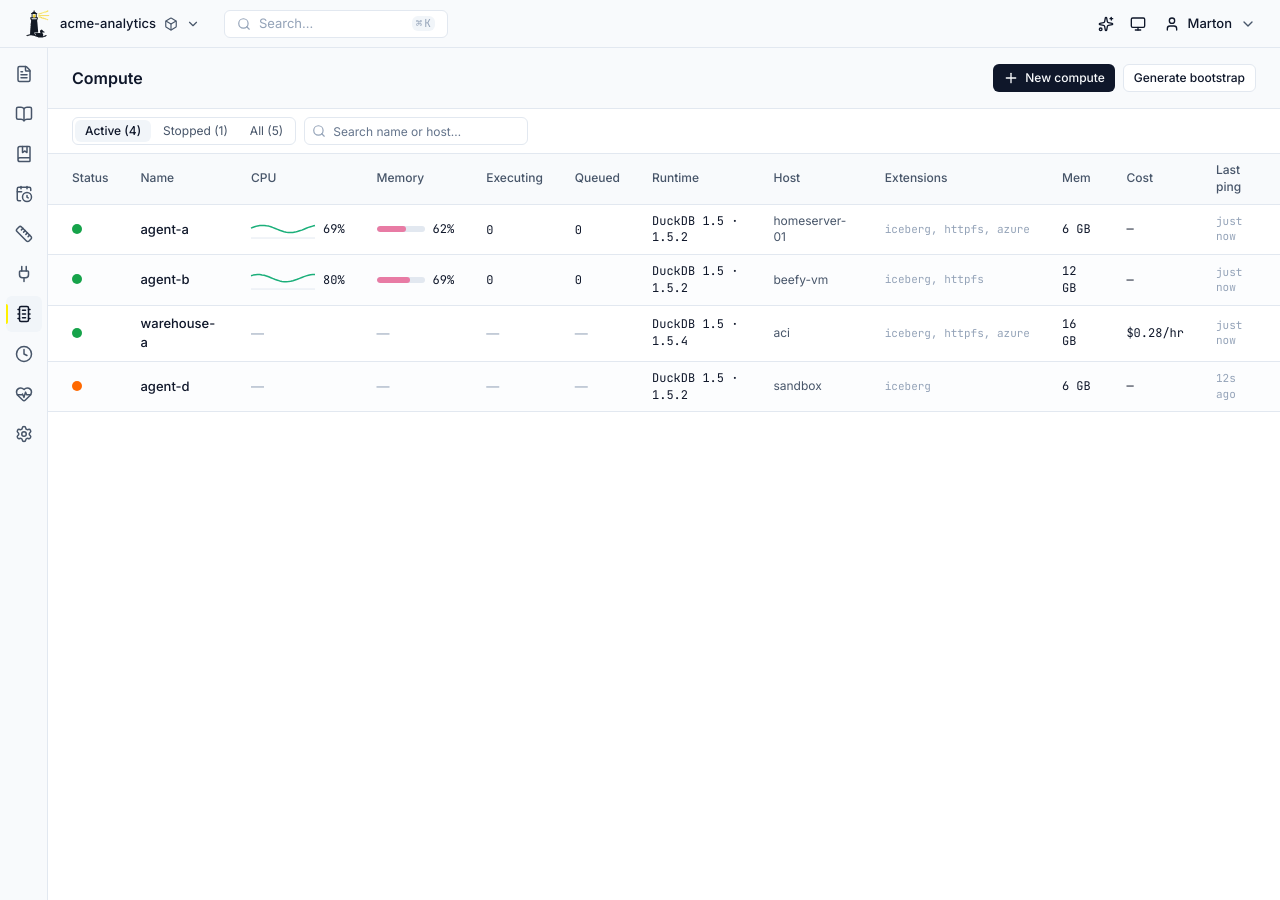
AgentsPage › renders the full agent list under All
Expected: the text "agent-a" is shown, left=140, top=221, right=189, bottom=237
Click the button "All (5)".
click(267, 131)  # box left=240, top=120, right=293, bottom=142
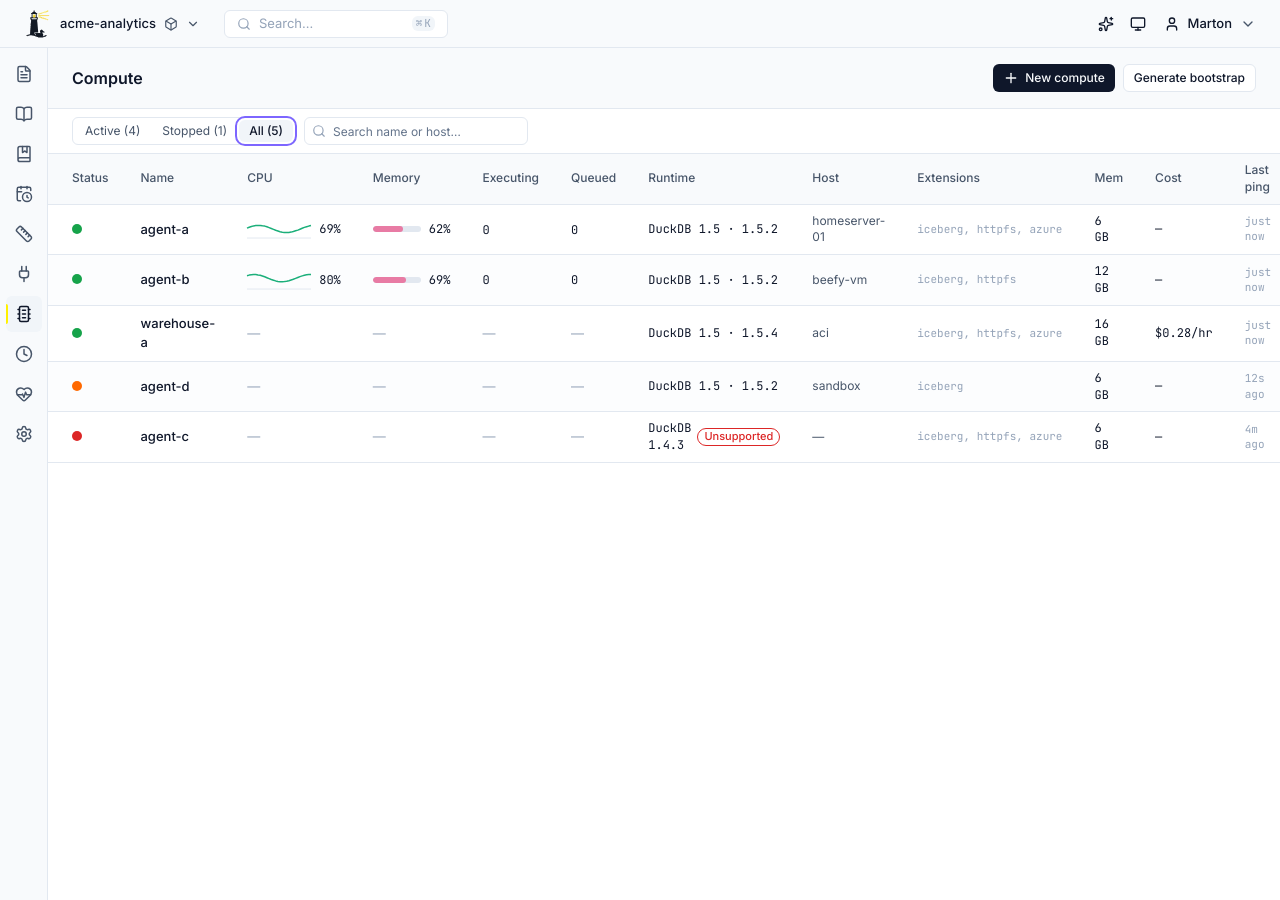
Expected: the text "agent-a" is shown, left=140, top=221, right=189, bottom=237
Expected: the text "agent-c" is shown, left=140, top=428, right=189, bottom=444
